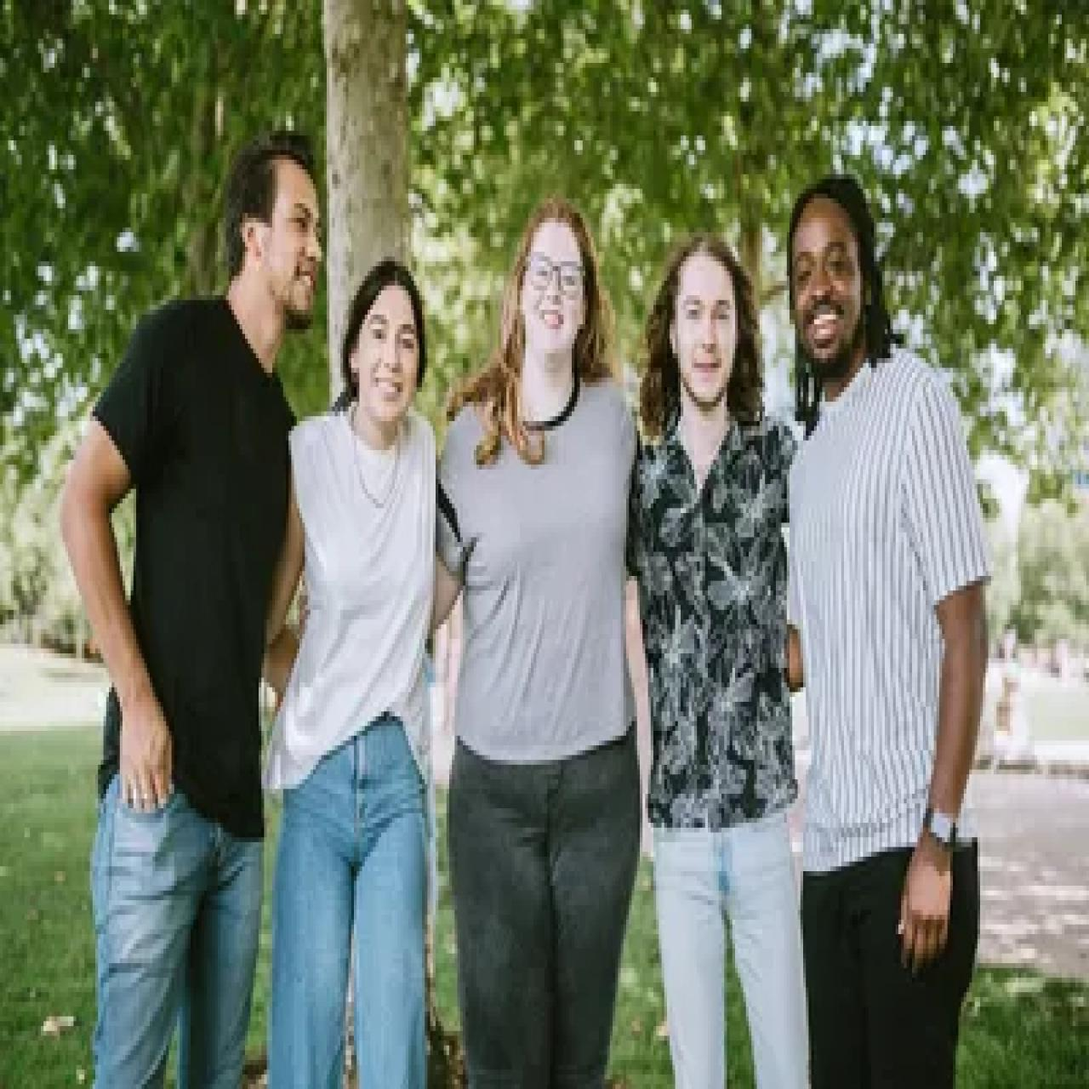NO_Safety_Vest: (139, 313, 301, 813), (787, 362, 952, 832), (644, 415, 790, 832), (469, 382, 618, 751), (296, 420, 439, 789)
Person: (46, 96, 324, 1084), (419, 178, 670, 1089), (768, 134, 1000, 1089), (623, 210, 815, 1089), (284, 232, 444, 1089)
